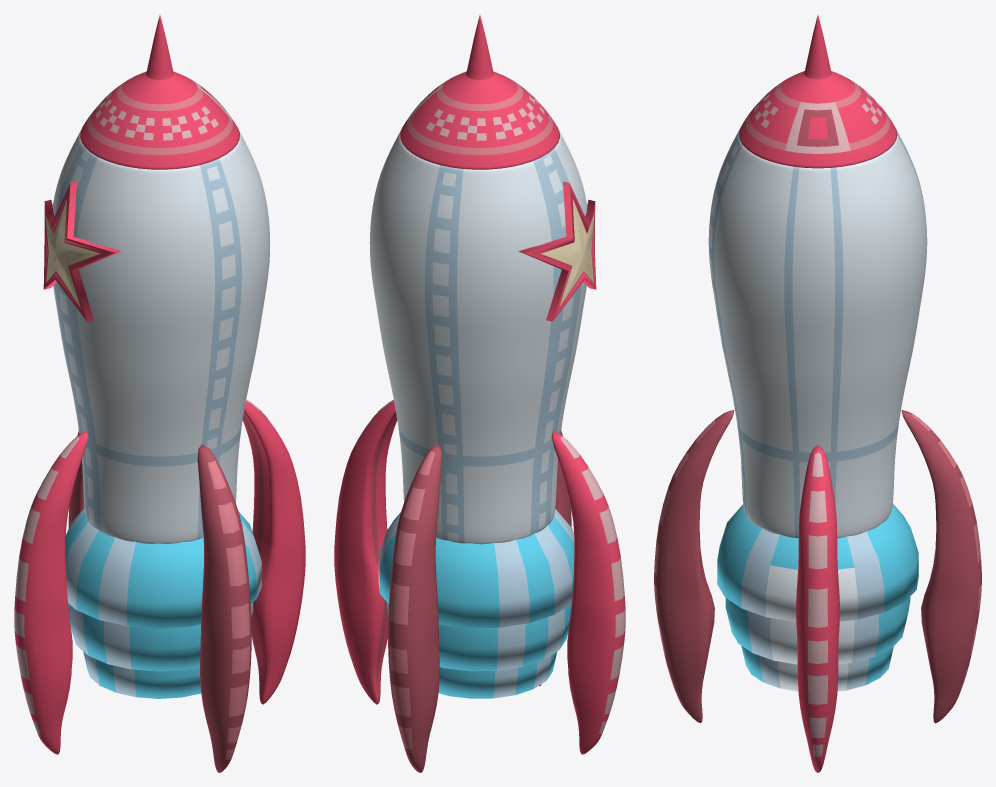
File: Rocket_Hard_final.fbx
3 renders of one model, left to right at view 1: azimuth 30°, elevation 25°; view 2: azimuth 150°, elevation 25°; view 3: azimuth 270°, elevation 25°, orthographic.
Visible parts, largest first — view 1: Body_top, Body_base, bottom_frontback_stands, Propellor_top, top_frontback_stands, Cap_fracturepart1, top_side_stands, Propellor_middle, bottom_side_stands, Hatch, Cap_fracturepart2, Propellor_bottom; view 2: Body_top, Body_base, bottom_frontback_stands, Propellor_top, top_frontback_stands, top_side_stands, Cap_fracturepart2, Propellor_middle, Cap_fracturepart1, bottom_side_stands, Hatch, Propellor_bottom; view 3: Body_top, Body_base, Propellor_top, bottom_side_stands, top_side_stands, Cap_fracturepart2, top_frontback_stands, Propellor_middle, bottom_frontback_stands, Propellor_bottom, Cap_fracturepart1.
Boxes of the visible parts, x1,y1,x2,y2 form: Body_top: (52, 131, 270, 393); Body_base: (68, 320, 261, 543); bottom_frontback_stands: (14, 547, 305, 754); Propellor_top: (65, 508, 261, 628); top_frontback_stands: (17, 399, 305, 584); Cap_fracturepart1: (80, 85, 232, 169); top_side_stands: (68, 431, 251, 644); Propellor_middle: (68, 602, 253, 671); bottom_side_stands: (99, 628, 251, 772); Hatch: (43, 181, 121, 321); Cap_fracturepart2: (114, 15, 239, 148); Propellor_bottom: (83, 651, 201, 698); Body_top: (369, 131, 587, 403); Body_base: (380, 331, 572, 544); bottom_frontback_stands: (334, 544, 625, 754); Propellor_top: (378, 509, 574, 628); top_frontback_stands: (334, 400, 623, 584); top_side_stands: (388, 431, 571, 645); Cap_fracturepart2: (400, 15, 502, 168); Propellor_middle: (387, 603, 571, 671); Cap_fracturepart1: (459, 75, 559, 169); bottom_side_stands: (388, 627, 541, 772); Hatch: (518, 181, 596, 321); Propellor_bottom: (438, 652, 556, 698); Body_top: (708, 130, 927, 356); Body_base: (720, 332, 912, 538); Propellor_top: (717, 503, 918, 621); bottom_side_stands: (654, 568, 981, 723); top_side_stands: (654, 410, 981, 583); Cap_fracturepart2: (754, 15, 897, 168); top_frontback_stands: (796, 445, 839, 640); Propellor_middle: (725, 597, 910, 664); bottom_frontback_stands: (797, 624, 839, 772); Propellor_bottom: (741, 646, 893, 691); Cap_fracturepart1: (738, 73, 798, 154).
Size of the model in its own units: 185 by 443 by 185.
